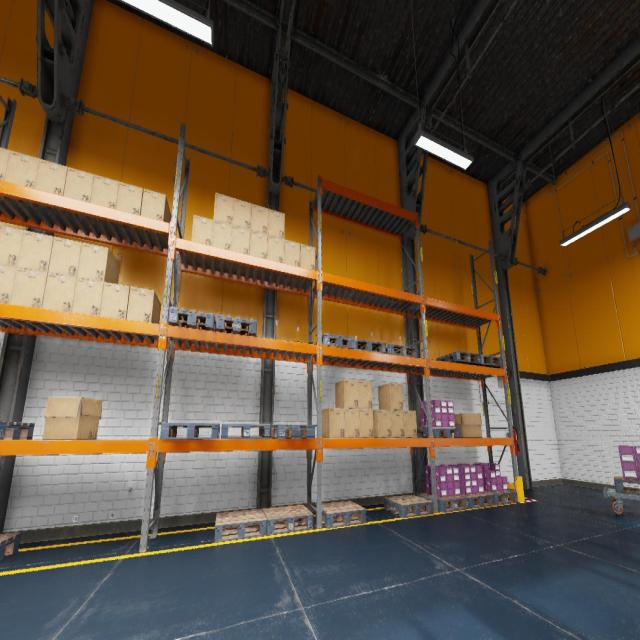box: (42, 397, 102, 439), (77, 242, 120, 284), (10, 267, 48, 308), (17, 230, 54, 272), (48, 236, 82, 278), (4, 150, 40, 188), (42, 272, 76, 312), (127, 286, 161, 324), (34, 159, 68, 195), (72, 278, 104, 315), (100, 282, 130, 319), (63, 167, 94, 202), (141, 188, 171, 222), (90, 174, 119, 209), (0, 225, 24, 267), (116, 182, 143, 215), (322, 407, 345, 438), (191, 214, 213, 246), (378, 383, 404, 410), (335, 379, 359, 408), (213, 192, 234, 225), (454, 413, 482, 437), (0, 265, 17, 304), (232, 198, 252, 229), (212, 221, 232, 250), (250, 204, 268, 235), (231, 225, 250, 254), (373, 410, 392, 438), (249, 230, 268, 258), (268, 208, 285, 238), (267, 235, 284, 263), (359, 409, 374, 438), (284, 239, 300, 266), (345, 408, 359, 438), (358, 380, 372, 409), (300, 244, 315, 270), (391, 410, 404, 437), (404, 411, 417, 437), (0, 147, 10, 180)
pallets: (214, 508, 267, 542), (262, 505, 313, 535), (316, 501, 366, 528), (384, 494, 434, 518), (168, 306, 216, 331), (160, 423, 220, 439), (420, 493, 469, 512), (216, 314, 256, 336), (221, 424, 271, 438), (474, 490, 518, 505), (315, 333, 354, 349), (270, 424, 314, 438), (0, 421, 34, 439), (0, 532, 21, 561), (459, 492, 495, 508), (462, 354, 502, 368), (437, 351, 480, 364), (614, 476, 640, 494), (354, 339, 386, 353), (417, 428, 461, 438), (386, 344, 418, 357)
